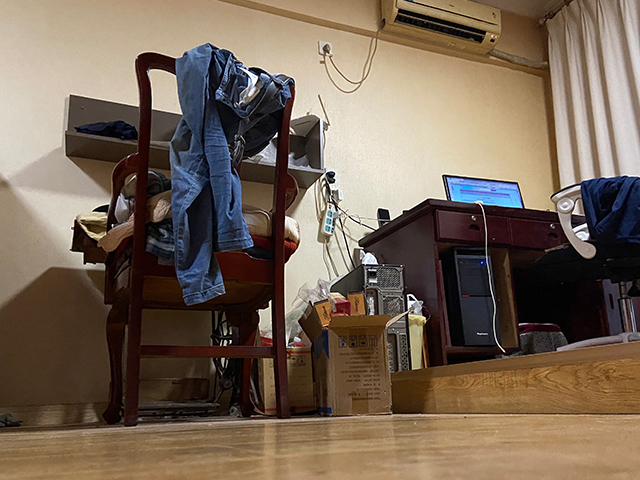curtain: (536, 3, 640, 183)
stool: (102, 51, 297, 429), (533, 176, 640, 353)
table: (357, 197, 611, 364)
